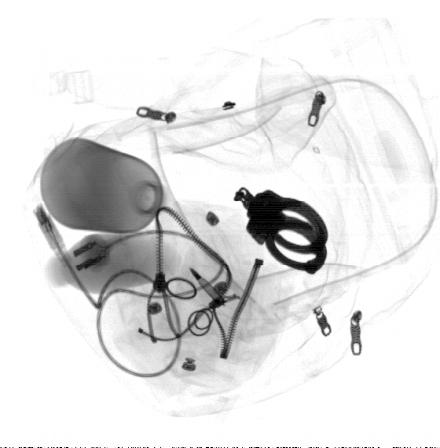Bullet: (191, 267, 223, 306)
HandCuffs: (233, 185, 328, 274)
